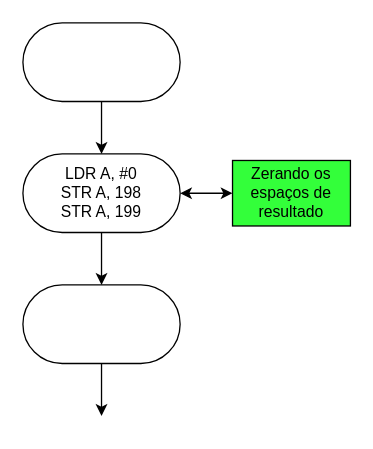
Some shapes in this 373 by 449 pixel diagram are drawn without their labels. Here are the shapes that lost their labels. From the top down, the box of each, then its label:
(22, 22, 180, 102): INÍCIO
(22, 284, 180, 364): Ler o endereço de início do vetor LDR A, 197
